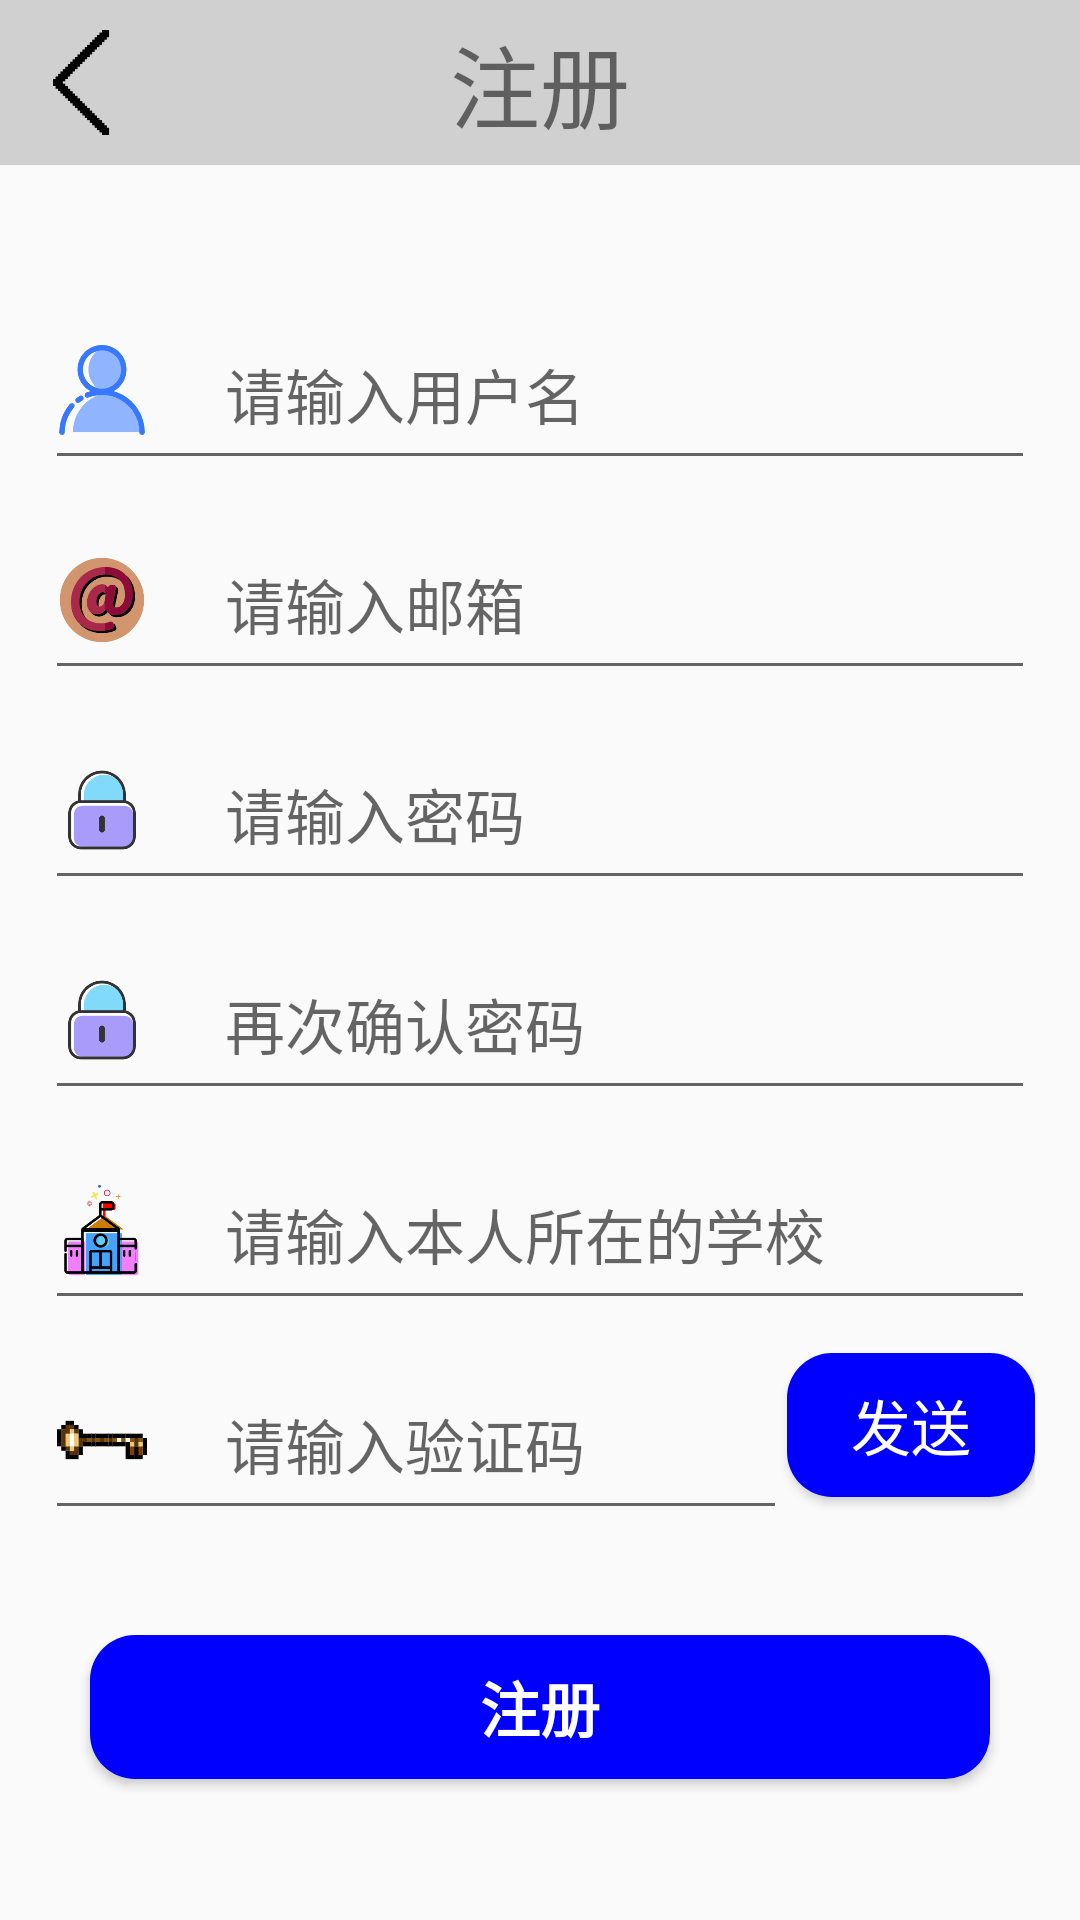

Icons on this 1080w x 1920h Android screen, each with the point to tap as point (x, y):
leftarrow: point (81, 82)
